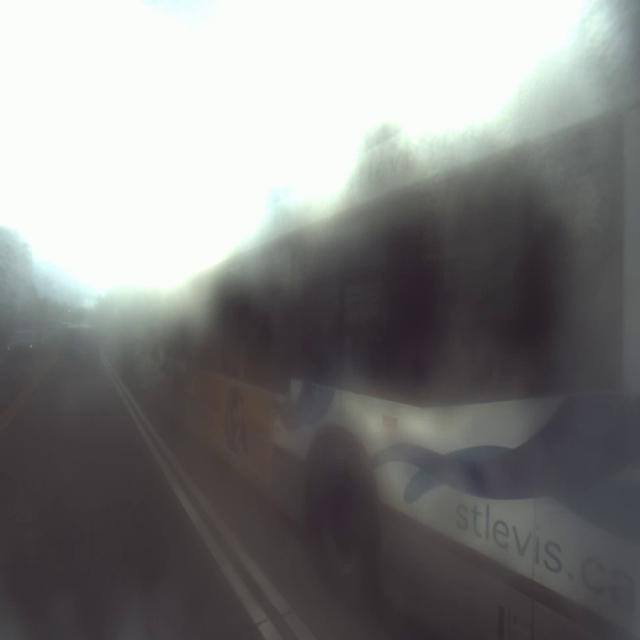car: (3, 318, 36, 362)
